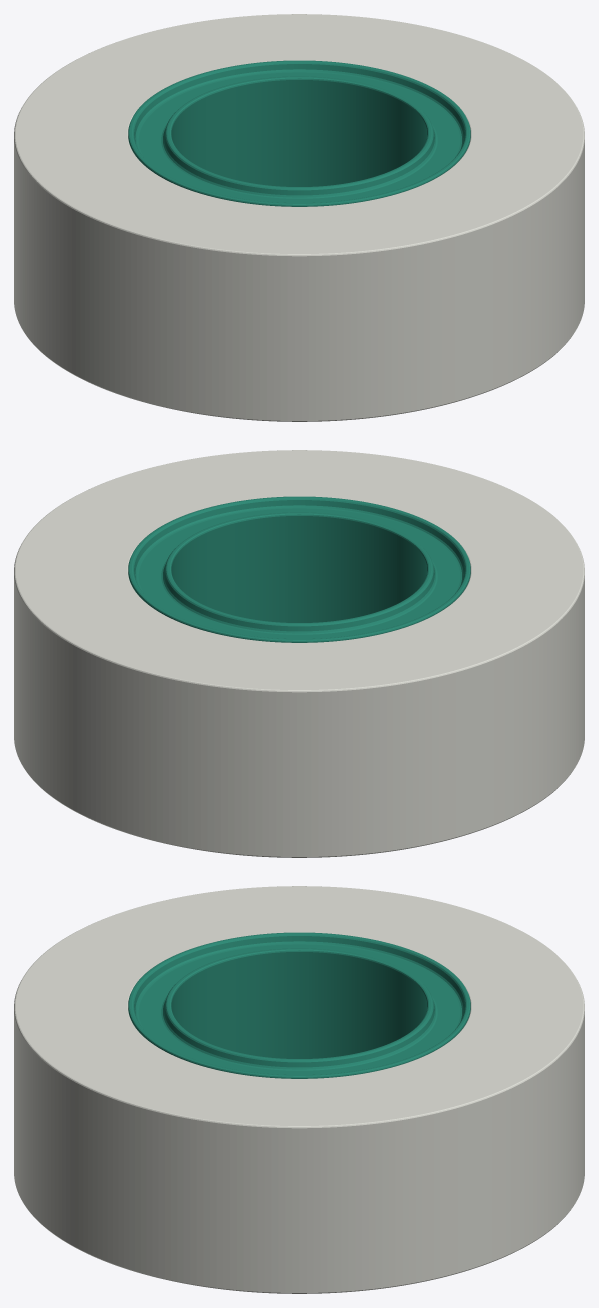
3 views of the same model, one above another, from view 1: azimuth 30°, elevation 25°; view 2: azimuth 150°, elevation 25°; view 3: azimuth 270°, elevation 25° (orthographic).
Visible parts, largest first — view 1: Wound tape, Central core; view 2: Wound tape, Central core; view 3: Wound tape, Central core.
Boxes of the visible parts, box(x1,y1,x2,y2) form: Wound tape: box(14, 14, 584, 421); Central core: box(128, 60, 470, 206); Wound tape: box(14, 450, 584, 857); Central core: box(128, 496, 470, 642); Wound tape: box(14, 886, 584, 1293); Central core: box(128, 932, 470, 1078).
Size of the model in its own units: 0.058 by 0.0192 by 0.058.
